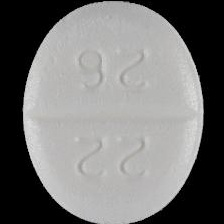63629-4816: (0, 0, 224, 224)
